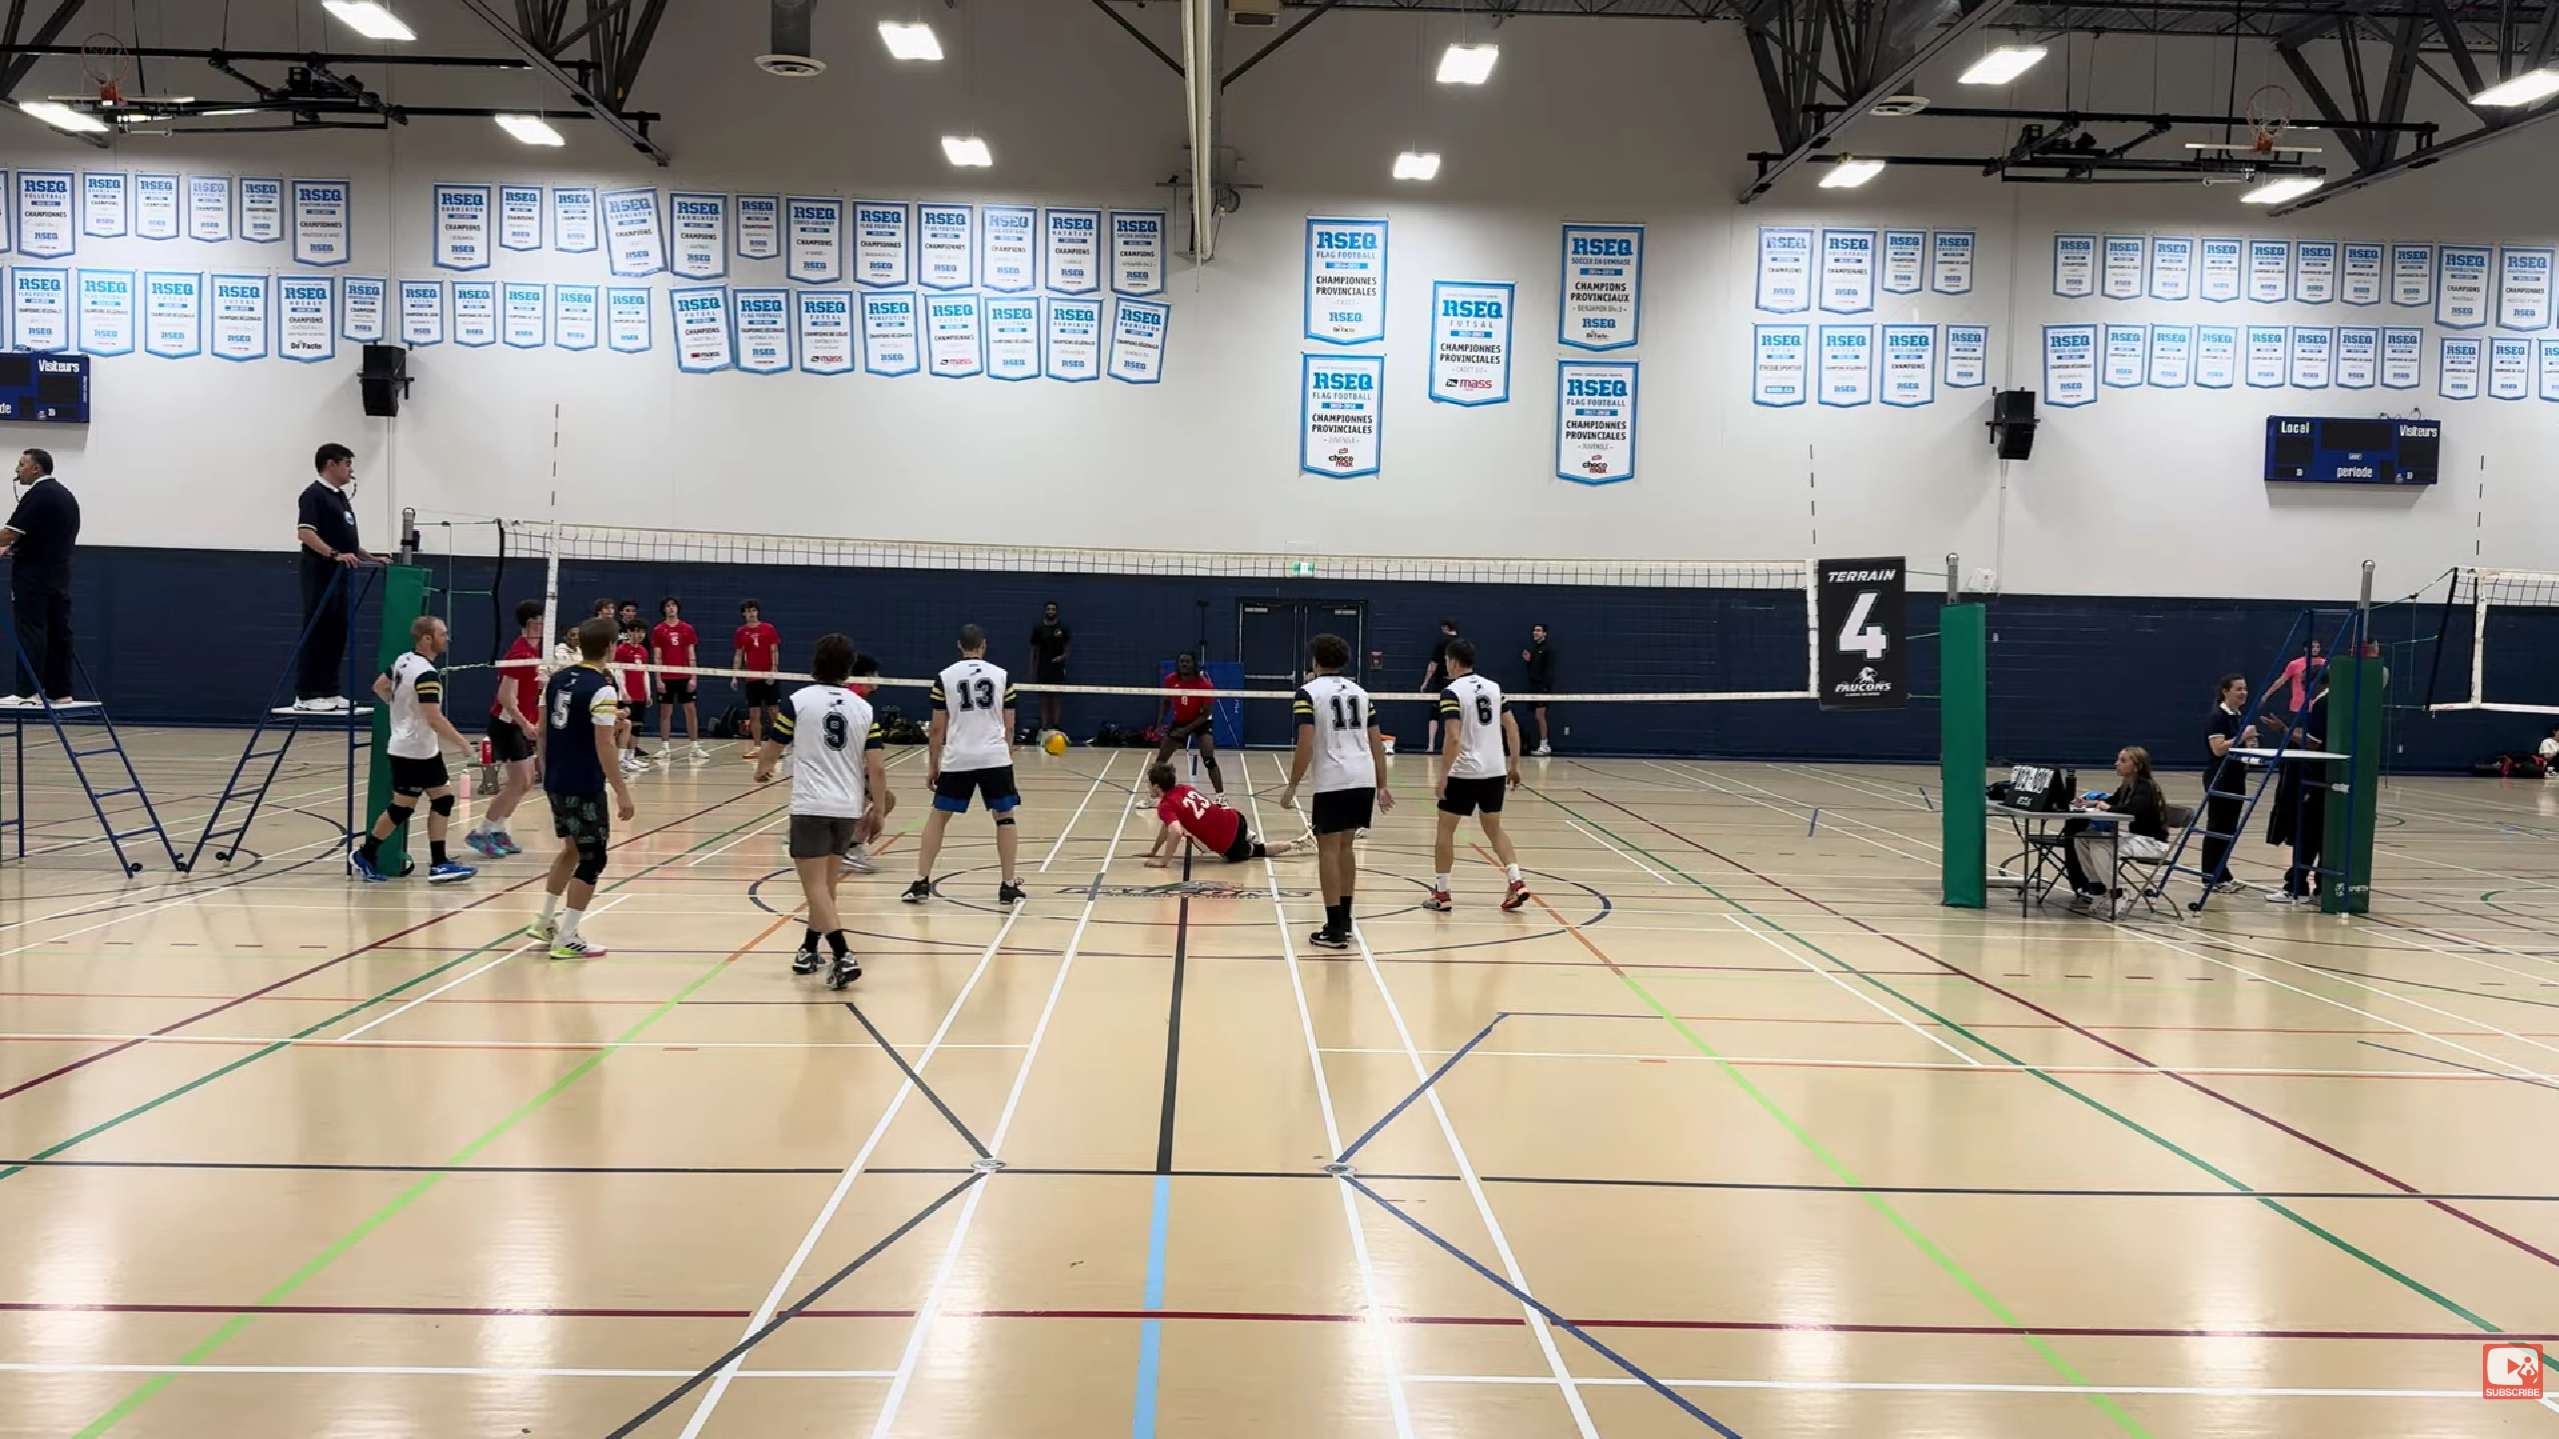Ball: (1040, 729, 1069, 757)
